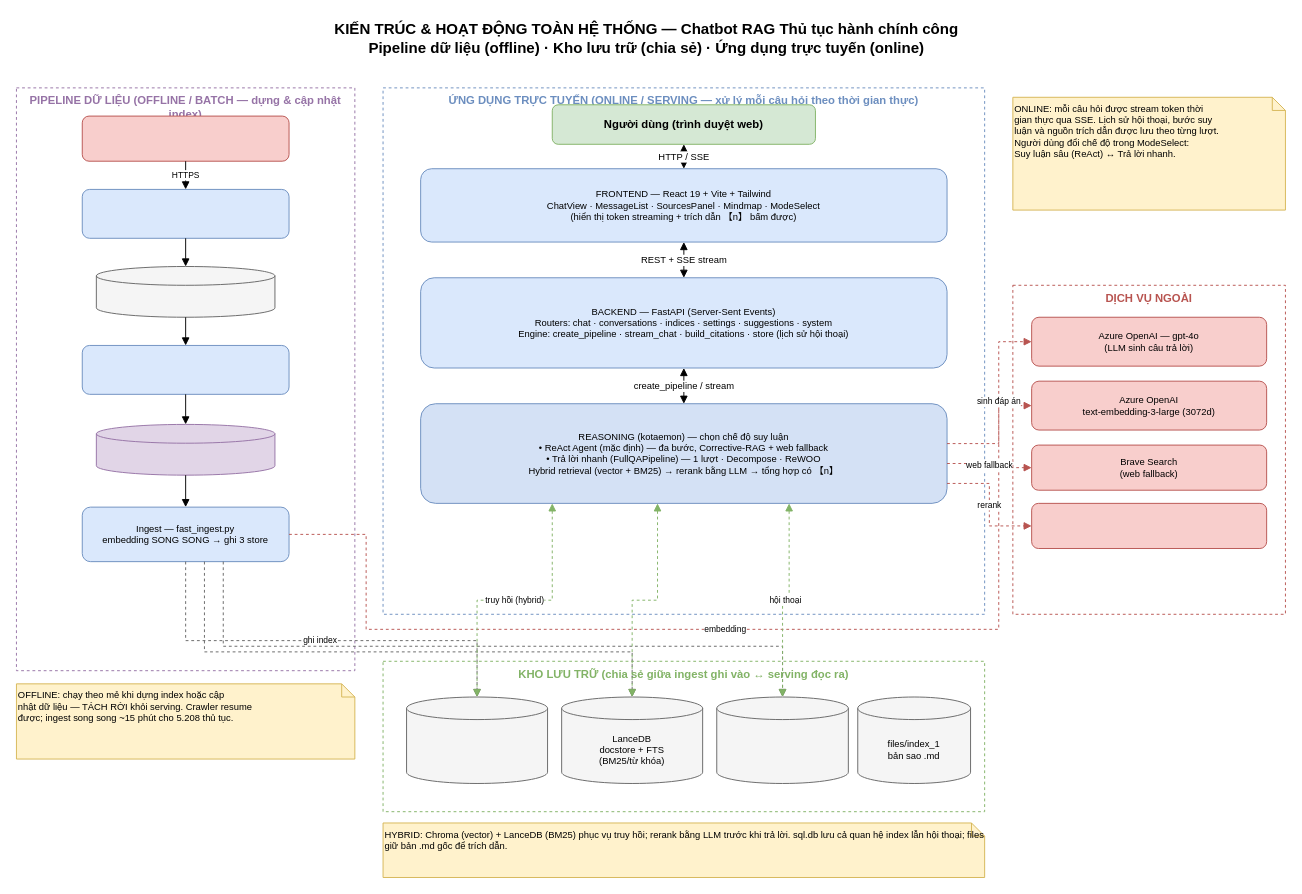
This 1302x894 diagram has some shape labels left out. The centre of each missing label's shape, as x and y in pixels:
"Chroma vectorstore (vector/ngữ nghĩa)" belongs at (477,739).
"Cohere rerank (tuỳ chọn)" belongs at (1149,525).
"corpus: md/ + chunks.jsonl" belongs at (185,449).
"Crawler — crawl.py LIST + DETAIL · resume · retry" belongs at (185,213).
"Cổng Dịch vụ công Quốc gia (API dichvucong.gov.vn)" belongs at (185,138).
"data/raw/*.json (5.208 thủ tục)" belongs at (185,291).
"Parser — parse.py chunk theo SECTION + metadata" belongs at (185,369).
"sql.db quan hệ index + hội thoại" belongs at (782,739).
